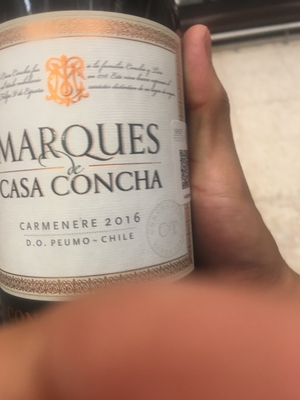marques de casa concha carmenere: (4, 12, 202, 392)
